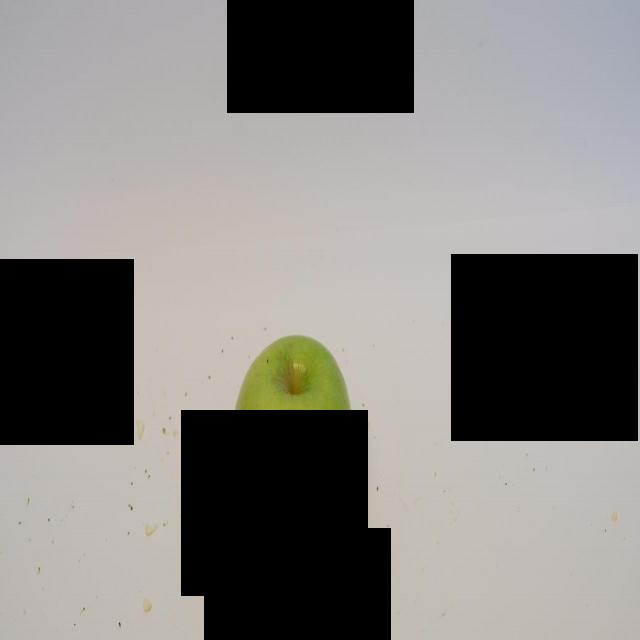apple: (232, 327, 356, 552)
